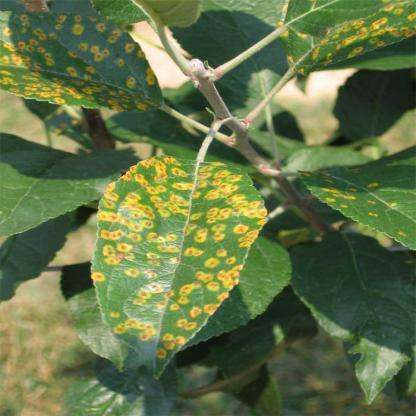Apple rust leaf: (86, 152, 266, 392), (0, 12, 182, 118), (280, 146, 415, 252), (266, 3, 416, 75)
